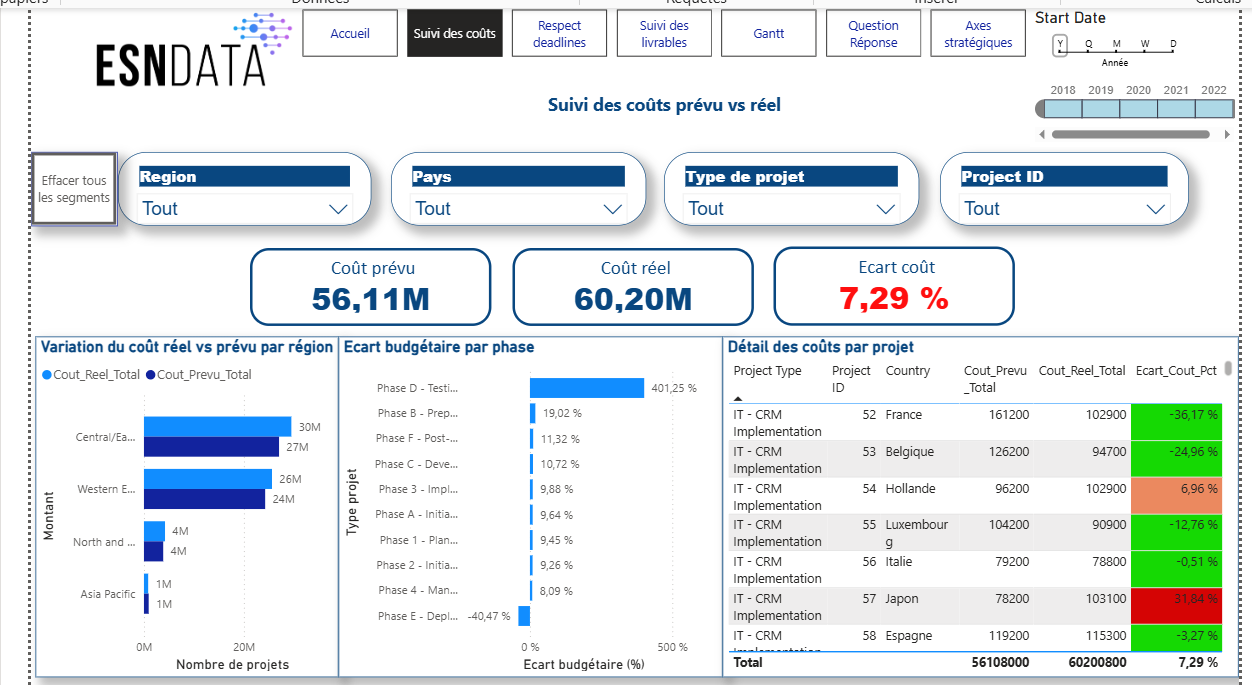

This screenshot's page, from the dashboard's own definition file:
{"tool":"powerbi","page":{"name":"Suivi des coûts","canvas":[1280,720],"ordinal":4},"visuals":[{"type":"textbox","box":[503.3,85,338.3,46.7],"z":0},{"type":"image","box":[1058.9,0,221.1,101.8],"z":1000},{"type":"image","box":[62,0,221.1,84.3],"z":2000},{"type":"card","title":"Coût prévu","fields":{"Values":["Projects_plans.Cout_Prevu_Total"]},"box":[232.2,254.5,256.1,82.7],"z":3000},{"type":"card","title":"Coût réel","fields":{"Values":["Projects_plans.Cout_Reel_Total"]},"box":[510.6,254.5,256.1,82.7],"z":4000},{"type":"card","title":"Ecart coût","fields":{"Values":["Projects_plans.Ecart_Cout_Pct"]},"box":[787.4,252.9,256.1,84.3],"z":5000},{"type":"clusteredBarChart","title":"Variation du coût réel vs prévu par région","fields":{"Y":["Projects_plans.Cout_Reel_Total","Projects_plans.Cout_Prevu_Total"],"Category":["Country_Profiles.Region"]},"box":[4.8,348.3,321.3,361.1],"z":6000},{"type":"clusteredBarChart","title":"Ecart budgétaire par phase","fields":{"Y":["Projects_plans.Ecart_Cout_Pct"],"Category":["Projects_plans.Phase"]},"box":[326.1,348.3,407.2,361.1],"z":7000},{"type":"slicer","fields":{"Values":["Project type.Project Type"]},"box":[671.2,153,270.4,77.9],"z":8000},{"type":"slicer","fields":{"Values":["Projects_plans.Project ID"]},"box":[963.9,153,264,77.9],"z":9000},{"type":"slicer","fields":{"Values":["Projects_Locations.Country"]},"box":[381.7,153,270.4,77.9],"z":10000},{"type":"slicer","fields":{"Values":["Country_Profiles.Region"]},"box":[92.3,153,268.8,77.9],"z":11000},{"type":"tableEx","title":"Détail des coûts par projet","fields":{"Values":["Project type.Project Type","Projects_plans.Project ID","Country_Profiles.Country","Projects_plans.Cout_Prevu_Total","Projects_plans.Cout_Reel_Total","Projects_plans.Ecart_Cout_Pct"]},"box":[733.3,348.3,547.2,361.1],"z":12000},{"type":"actionButton","box":[0,153.3,91.7,78.3],"z":13000},{"type":"pageNavigator","box":[288.3,1.7,771.7,50],"z":14000},{"type":"Timeline1447991079100","fields":{"Time":["Projects_plans.Start Date"]},"box":[1059.3,0,221.1,146.3],"z":15000}]}

Visuals, with their boxes on the page's 1280x720 design canvas (x1, y1, x2, y2). These are canvas units, not pixel positions in the 1252x685 screenshot, which may show the page scaled, cropped or inside an application window:
textbox: <box>503,85,842,132</box>
image: <box>1059,0,1280,102</box>
image: <box>62,0,283,84</box>
"Coût prévu" card: <box>232,254,488,337</box>
"Coût réel" card: <box>511,254,767,337</box>
"Ecart coût" card: <box>787,253,1044,337</box>
"Variation du coût réel vs prévu par région" clusteredBarChart: <box>5,348,326,709</box>
"Ecart budgétaire par phase" clusteredBarChart: <box>326,348,733,709</box>
slicer - Project type.Project Type: <box>671,153,942,231</box>
slicer - Projects_plans.Project ID: <box>964,153,1228,231</box>
slicer - Projects_Locations.Country: <box>382,153,652,231</box>
slicer - Country_Profiles.Region: <box>92,153,361,231</box>
"Détail des coûts par projet" tableEx: <box>733,348,1280,709</box>
actionButton: <box>0,153,92,232</box>
pageNavigator: <box>288,2,1060,52</box>
Timeline1447991079100 - Projects_plans.Start Date: <box>1059,0,1280,146</box>
